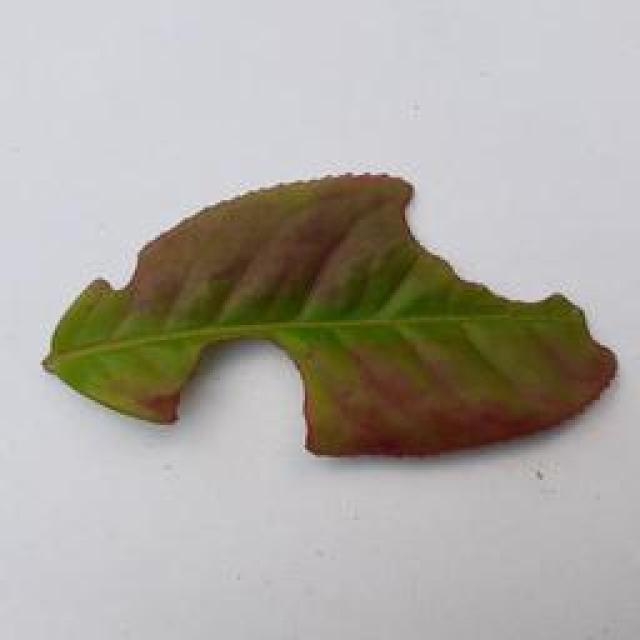Red Leaf Spot: (39, 164, 624, 449)
